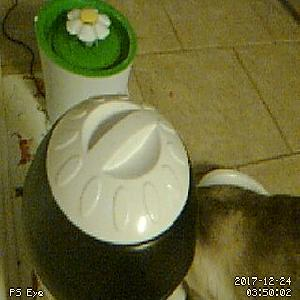cat: (181, 182, 300, 300)
fountain: (31, 1, 139, 79)
